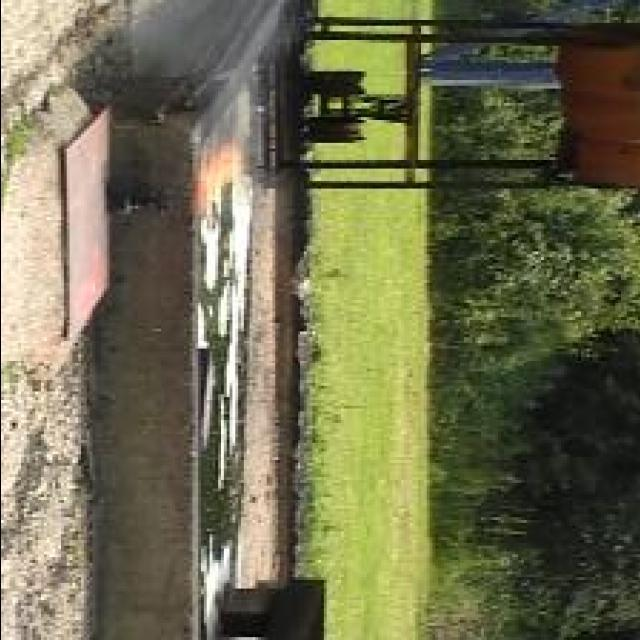Fire: (197, 144, 240, 216)
